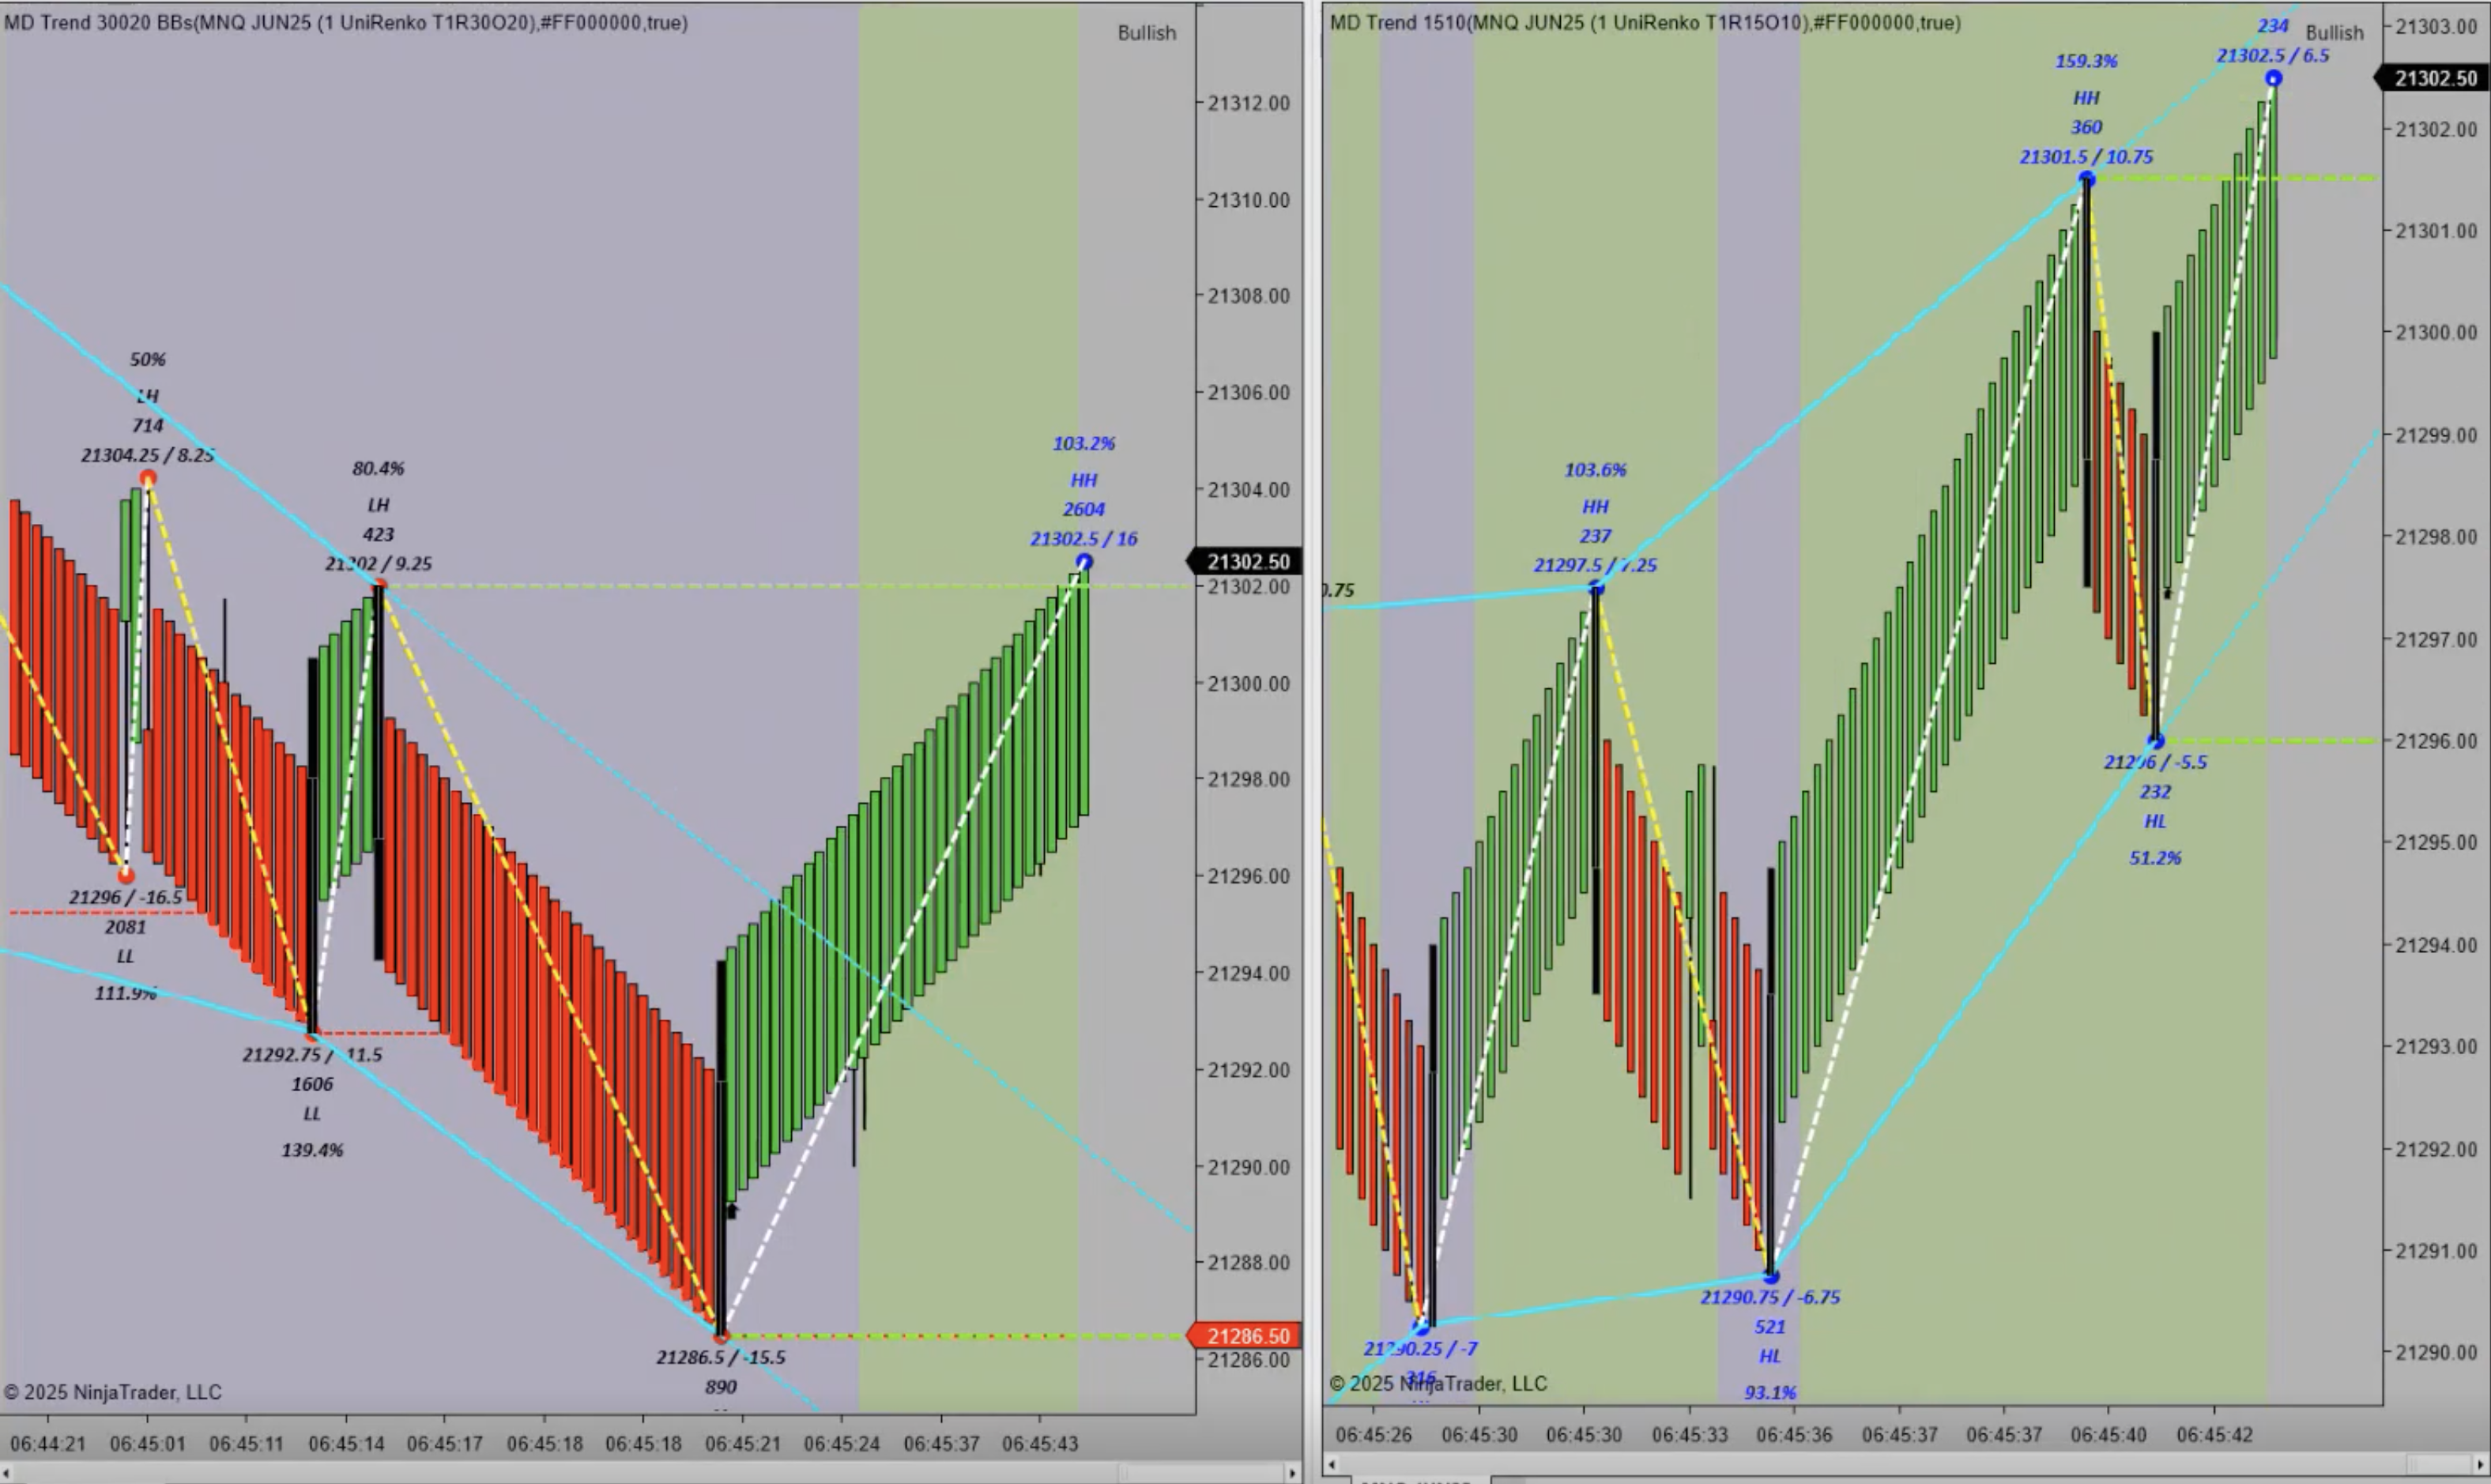candle: (2081, 175, 2099, 592), (1763, 871, 1781, 1270), (373, 585, 390, 968), (2148, 327, 2164, 735), (307, 657, 323, 1042), (1427, 938, 1442, 1336), (1590, 579, 1602, 1003), (716, 956, 728, 1344)
